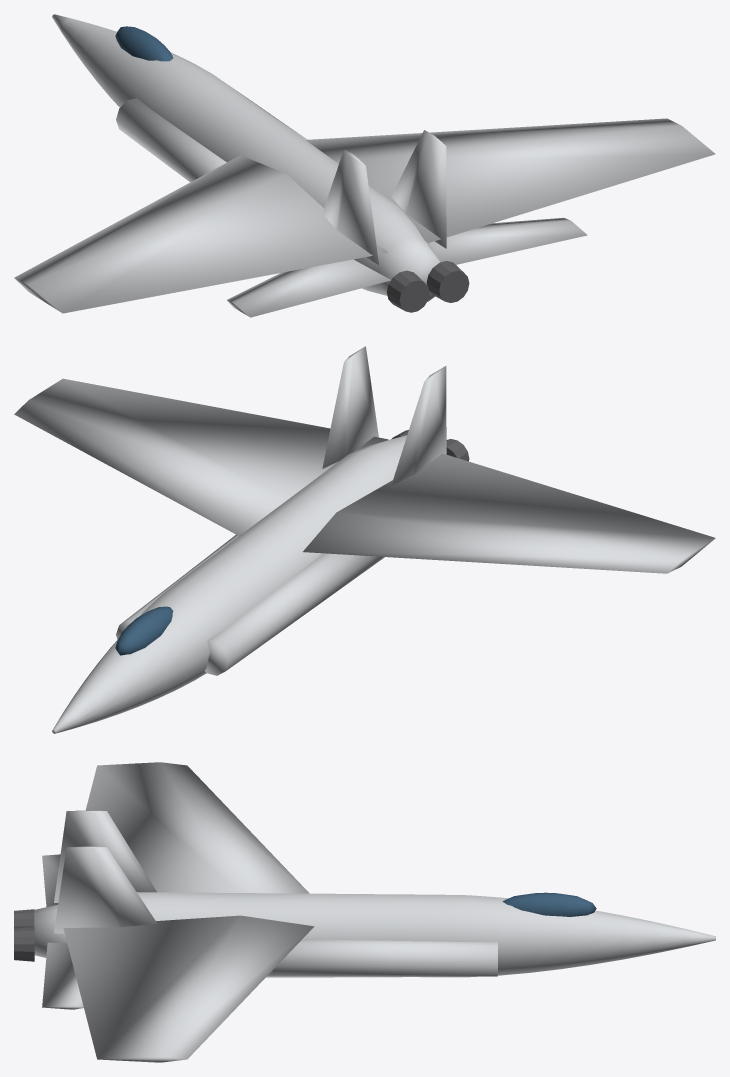
3 renders of one model, top to bottom at view 1: azimuth 30°, elevation 25°; view 2: azimuth 150°, elevation 25°; view 3: azimuth 270°, elevation 25°, orthographic. The views are drawn at different scales.
Visible parts, largest first — view 1: Body, Detail, Canopy; view 2: Body, Canopy; view 3: Body, Canopy, Detail.
Boxes of the visible parts, box(x1,y1,x2,y2) form: Body: box(14, 14, 715, 317); Detail: box(386, 261, 469, 312); Canopy: box(115, 26, 173, 61); Body: box(14, 346, 715, 733); Canopy: box(115, 606, 173, 655); Body: box(34, 762, 715, 1062); Canopy: box(502, 892, 596, 916); Detail: box(14, 909, 34, 961).
Size of the model in its own units: 1950 by 446 by 1967.
